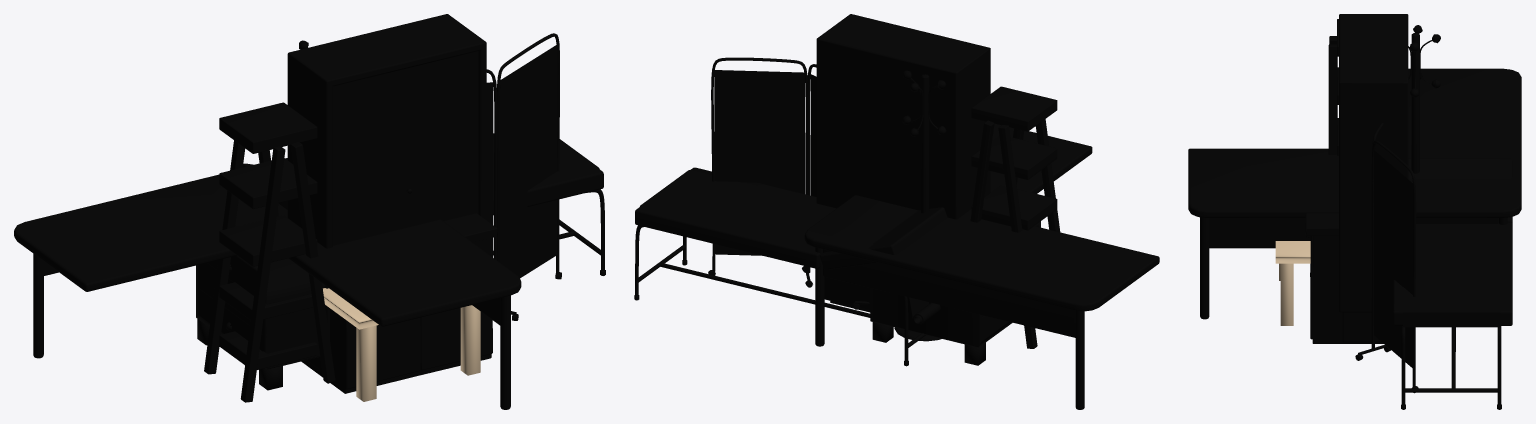
The model's file is Furniture_Large.fbx.
The picture shows the model from 3 angles, left to right: view 1: azimuth 30°, elevation 25°; view 2: azimuth 150°, elevation 25°; view 3: azimuth 270°, elevation 25°; orthographic projection. The views are drawn at different scales.
Visible parts, largest first — view 1: All; view 2: All; view 3: All.
Part boxes in pixels (x1,y1,x2,y2): All: (14,14,605,409); All: (634,14,1159,409); All: (1188,14,1521,409).
Size of the model in its own units: 3.46 by 1.88 by 2.14.
